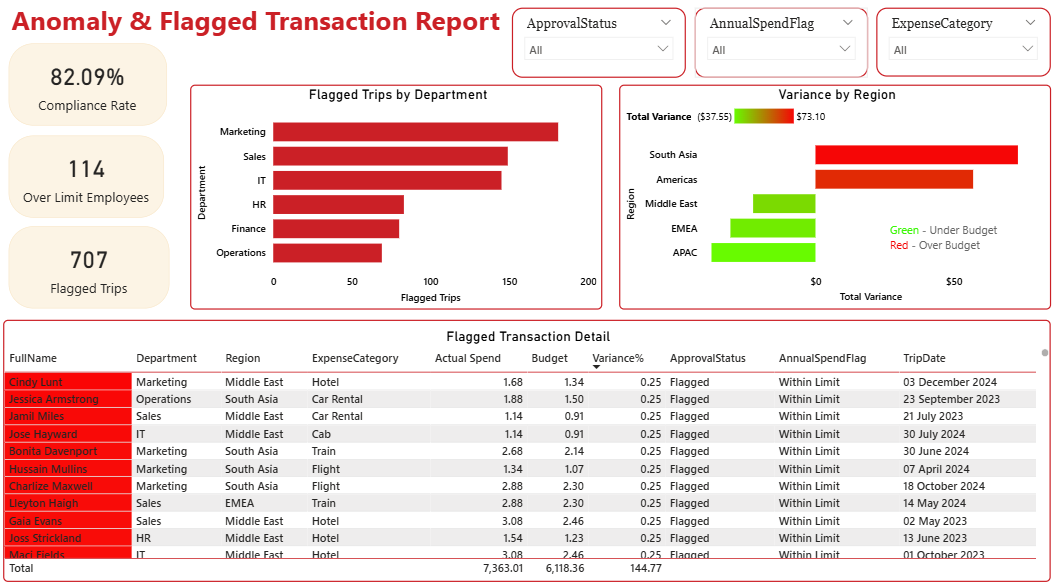

What the dashboard file says about the page in this screenshot:
{"tool":"powerbi","page":{"name":"Flagged Report","canvas":[1280,720],"ordinal":1},"visuals":[{"type":"textbox","box":[9.7,0,612.5,70.9],"z":0},{"type":"card","fields":{"Values":["TravelSheet.Flagged Trips"]},"box":[11.3,277.2,195,99.9],"z":1000},{"type":"card","fields":{"Values":["TravelSheet.Over Limit Employees"]},"box":[11.3,166,188.6,99.9],"z":2000},{"type":"card","fields":{"Values":["TravelSheet.Compliance Rate"]},"box":[11.3,54.8,191.8,99.9],"z":3000},{"type":"tableEx","title":" Flagged Transaction Detail","fields":{"Values":["TravelSheet.FullName","TravelSheet.Department","TravelSheet.Region","TravelSheet.ExpenseCategory","Sum(TravelSheet.ReimbursementAmount)","Sum(TravelSheet.BudgetAmount)","Sum(TravelSheet.Variance%)","TravelSheet.ApprovalStatus","TravelSheet.AnnualSpendFlag","TravelSheet.TripDate"]},"box":[4.8,390,1270.1,317.5],"z":4000},{"type":"barChart","fields":{"Category":["TravelSheet.Department"],"Y":["TravelSheet.Flagged Trips"]},"box":[232.1,104.8,499.6,272.4],"z":5000},{"type":"barChart","title":"Variance by Region","fields":{"Category":["TravelSheet.Region"],"Y":["TravelSheet.Total Variance"]},"box":[751.1,104.8,523.8,272.4],"z":6000},{"type":"slicer","fields":{"Values":["TravelSheet.ApprovalStatus"]},"box":[622.1,11.3,211.1,85.4],"z":7000},{"type":"slicer","fields":{"Values":["TravelSheet.AnnualSpendFlag"]},"box":[843.6,11.4,210,85],"z":8000},{"type":"slicer","fields":{"Values":["TravelSheet.ExpenseCategory"]},"box":[1063.6,11.4,211.4,83.6],"z":9000},{"type":"textbox","box":[1075,266.7,173.3,60],"z":9001}]}

Visuals, with their boxes in screenshot pixels (x1, y1, x2, y2), scaled from the page's 1280x720 canvas onto the 1052x587 screenshot:
textbox: <region>8, 0, 511, 58</region>
card - TravelSheet.Flagged Trips: <region>9, 226, 170, 307</region>
card - TravelSheet.Over Limit Employees: <region>9, 135, 164, 217</region>
card - TravelSheet.Compliance Rate: <region>9, 45, 167, 126</region>
" Flagged Transaction Detail" tableEx: <region>4, 318, 1048, 577</region>
barChart - TravelSheet.Department x TravelSheet.Flagged Trips: <region>191, 85, 601, 308</region>
"Variance by Region" barChart: <region>617, 85, 1048, 308</region>
slicer - TravelSheet.ApprovalStatus: <region>511, 9, 685, 79</region>
slicer - TravelSheet.AnnualSpendFlag: <region>693, 9, 866, 79</region>
slicer - TravelSheet.ExpenseCategory: <region>874, 9, 1048, 77</region>
textbox: <region>884, 217, 1026, 266</region>
